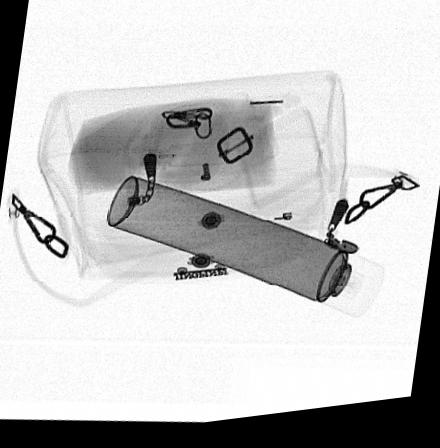Sprayer: (105, 178, 386, 327)
